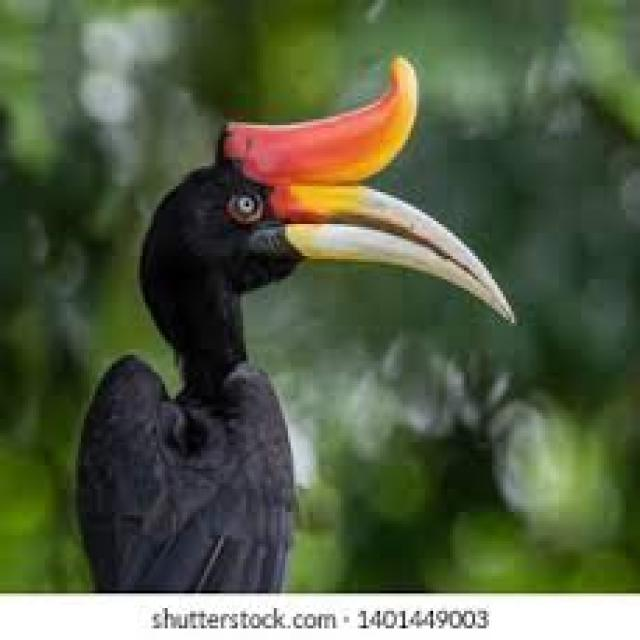Hornbill: (70, 38, 522, 598)
